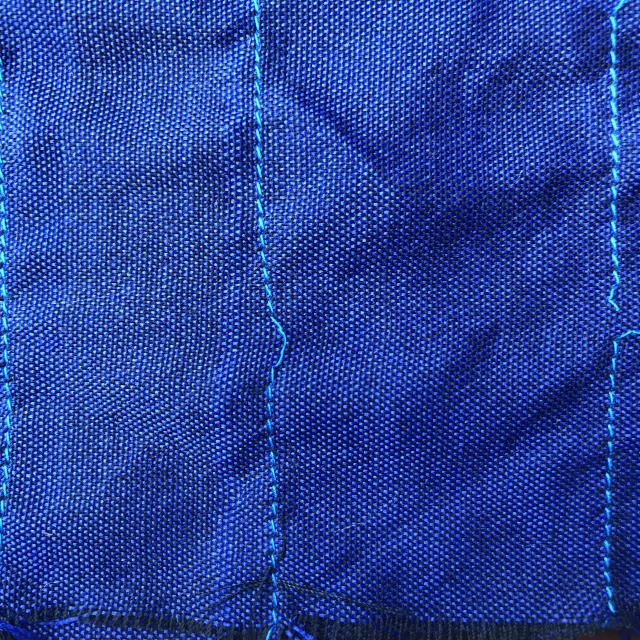broken: (595, 275, 639, 365)
good: (239, 92, 281, 214)
skip: (244, 275, 296, 383)
